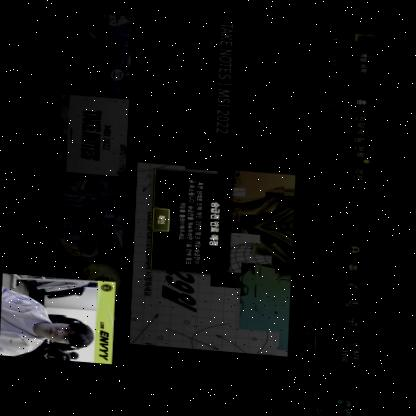streamer: (2, 286, 98, 361)
